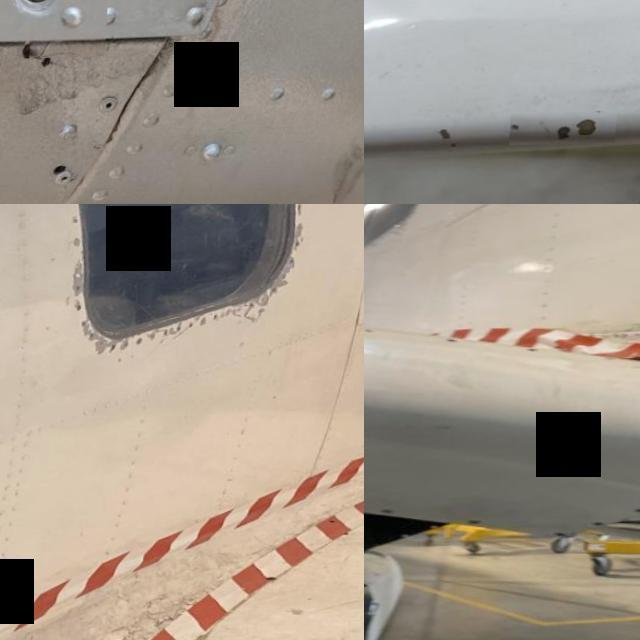Crack: (513, 114, 621, 148), (428, 118, 471, 156)
Missing_Fastener: (0, 0, 115, 61), (376, 508, 404, 520), (554, 532, 576, 542), (594, 524, 610, 532), (472, 520, 484, 529)
